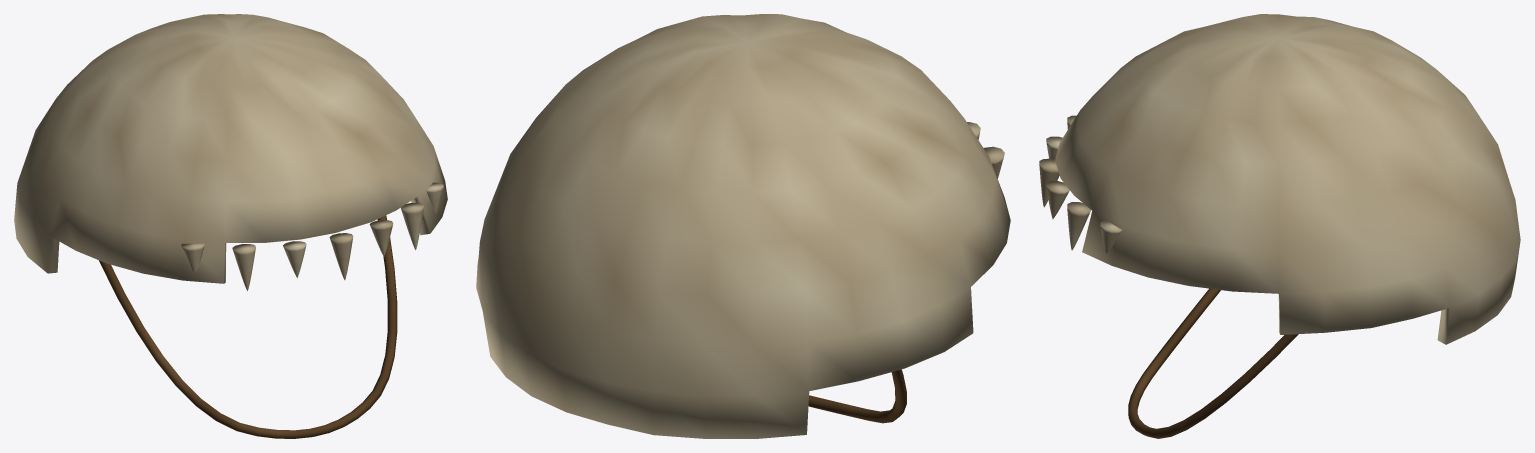
The model's file is skull_cap.glb.
3 views of the same model, side by side, from view 1: azimuth 30°, elevation 25°; view 2: azimuth 150°, elevation 25°; view 3: azimuth 270°, elevation 25° (orthographic). The views are drawn at different scales.
Parts seen in each view (by area): view 1: skull_cap__Head; view 2: skull_cap__Head; view 3: skull_cap__Head.
Part boxes in pixels (<box>): skull_cap__Head: <box>14,14,447,438</box>; skull_cap__Head: <box>476,14,1010,438</box>; skull_cap__Head: <box>1039,14,1520,438</box>.
Bounding box in the file's own units: 0.158 × 0.1416 × 0.1671.
